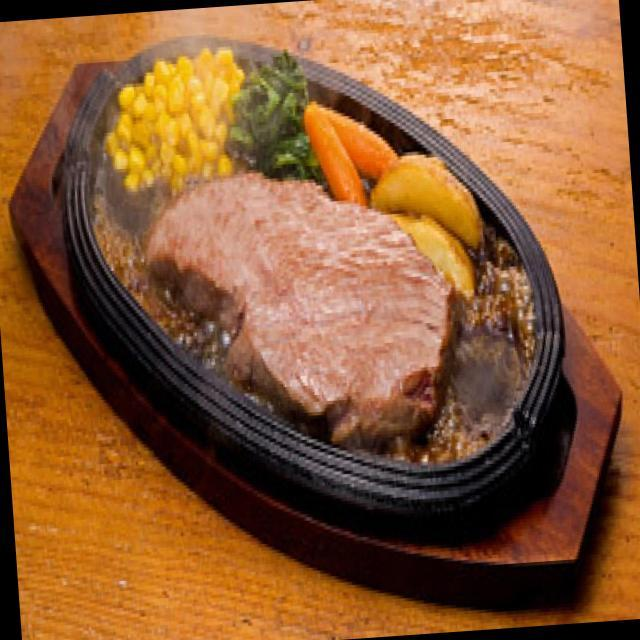Beef Steak: (147, 173, 455, 472)
